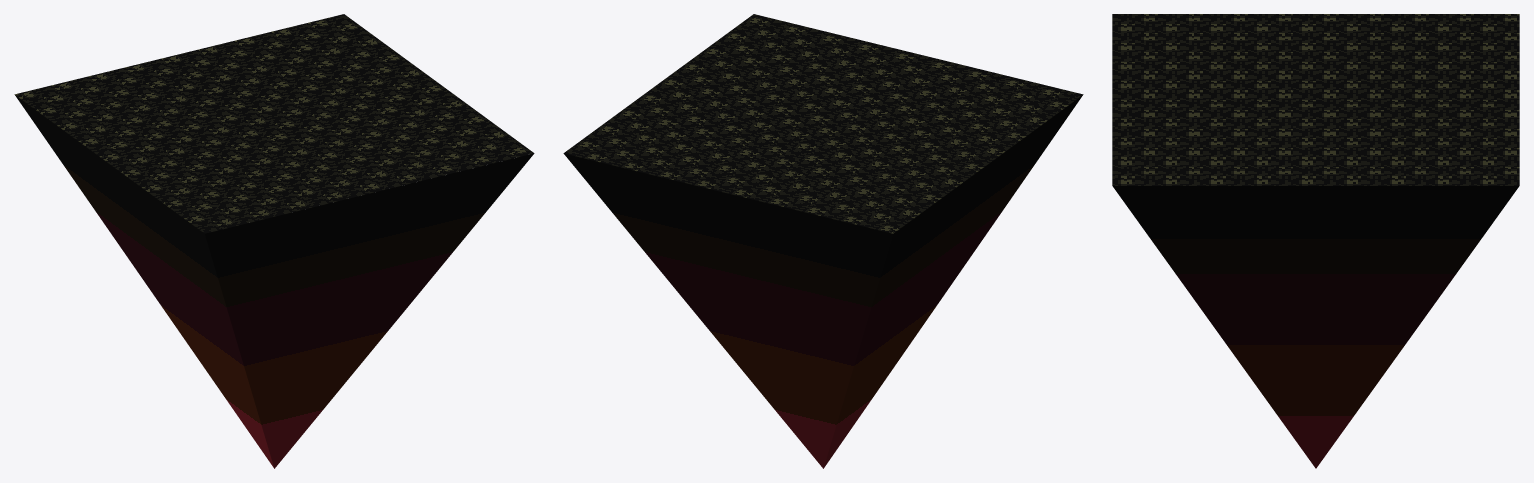
The model's file is PlatformB.gltf.
3 views of the same model, side by side, from view 1: azimuth 30°, elevation 25°; view 2: azimuth 150°, elevation 25°; view 3: azimuth 270°, elevation 25° (orthographic). The views are drawn at different scales.
Parts seen in each view (by area): view 1: PlatformB; view 2: PlatformB; view 3: PlatformB.
Boxes of the visible parts, <box> form: PlatformB: <box>14,14,534,468</box>; PlatformB: <box>563,14,1083,468</box>; PlatformB: <box>1112,14,1519,468</box>.
Bounding box in the file's own units: 9 × 9 × 9.
Materials: 1 (1 with a texture image).
